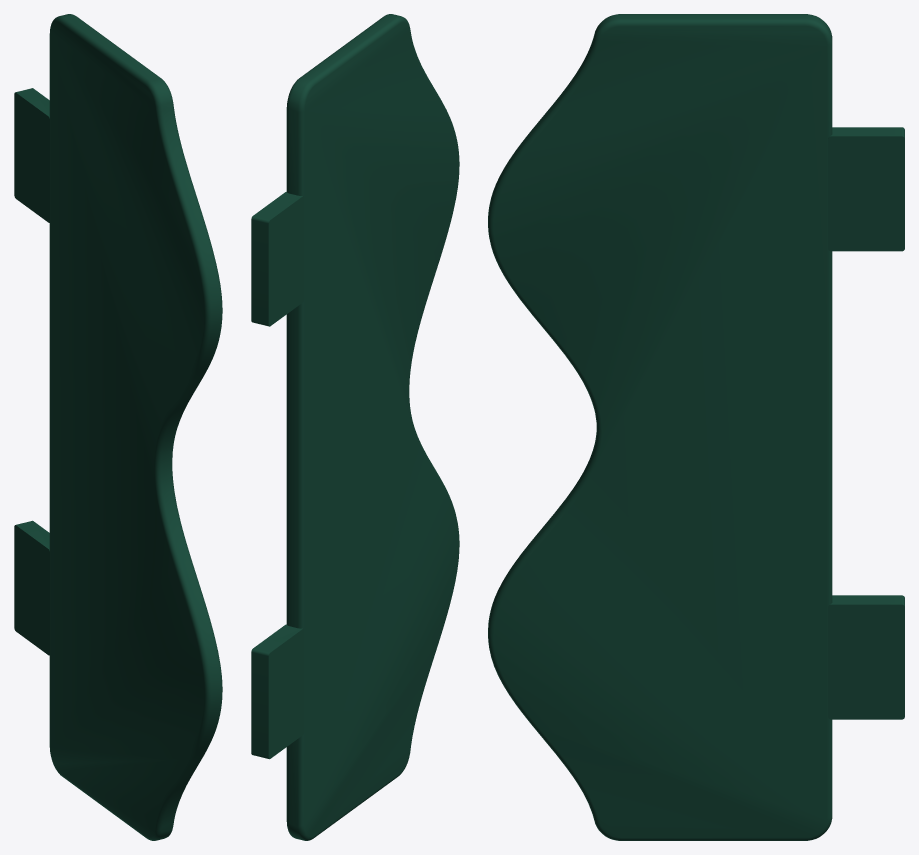
The picture shows the model from 3 angles, left to right: view 1: azimuth 30°, elevation 25°; view 2: azimuth 150°, elevation 25°; view 3: azimuth 270°, elevation 25°; orthographic projection. The views are drawn at different scales.
Visible parts, largest first — view 1: G17_PineGreen; view 2: G17_PineGreen; view 3: G17_PineGreen.
Boxes of the visible parts, x1=… form: G17_PineGreen: x1=14, y1=14, x2=222, y2=840; G17_PineGreen: x1=251, y1=14, x2=459, y2=840; G17_PineGreen: x1=488, y1=14, x2=904, y2=840.
Size of the model in its own units: 2.4 by 100 by 46.
